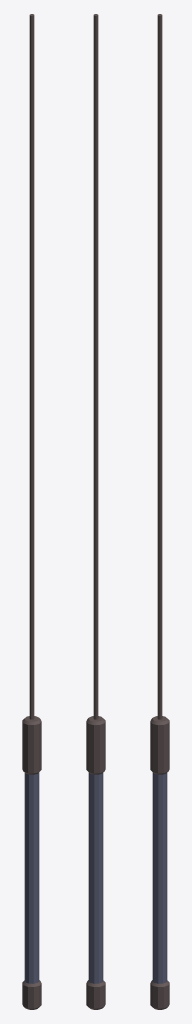
The model's file is Lightsource_HangingRave.fbx.
3 renders of one model, left to right at view 1: azimuth 30°, elevation 25°; view 2: azimuth 150°, elevation 25°; view 3: azimuth 330°, elevation 25°, orthographic.
Visible parts, largest first — view 1: SM_Lamp_Rave; view 2: SM_Lamp_Rave; view 3: SM_Lamp_Rave.
Boxes of the visible parts, x1,y1,x2,y2 form: SM_Lamp_Rave: (22, 14, 41, 1009); SM_Lamp_Rave: (86, 14, 105, 1009); SM_Lamp_Rave: (150, 14, 169, 1009).
Size of the model in its own units: 108 by 6003 by 103.
